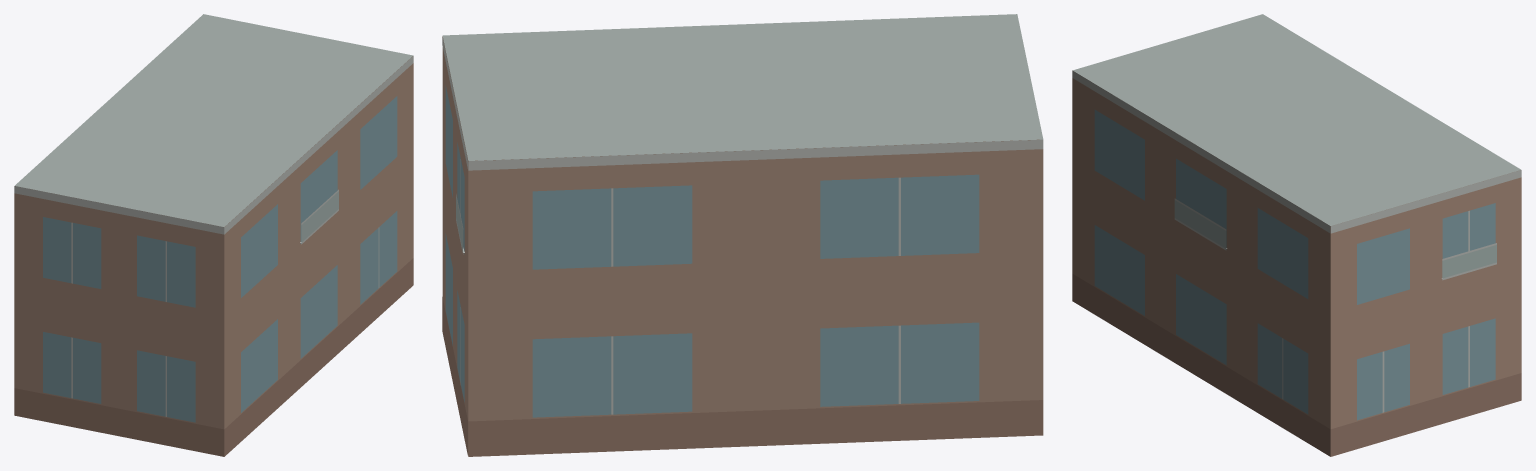
Rendered from survey-upis-32635950.glb.
3 renders of one model, left to right at view 1: azimuth 30°, elevation 25°; view 2: azimuth 150°, elevation 25°; view 3: azimuth 270°, elevation 25°, orthographic. The views are drawn at different scales.
Visible parts, largest first — view 1: survey-upis-32635950.tmp; view 2: survey-upis-32635950.tmp; view 3: survey-upis-32635950.tmp.
Part boxes in pixels (x1=…): survey-upis-32635950.tmp: x1=14, y1=14, x2=413, y2=456; survey-upis-32635950.tmp: x1=442, y1=14, x2=1043, y2=456; survey-upis-32635950.tmp: x1=1072, y1=14, x2=1521, y2=456.
Size of the model in its own units: 14.8 by 7.5 by 13.24.
